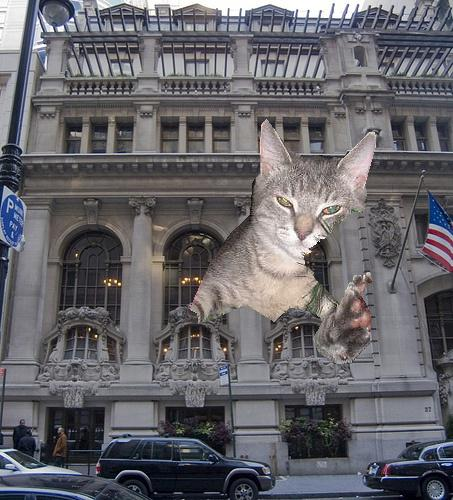tampered: (191, 120, 376, 364)
